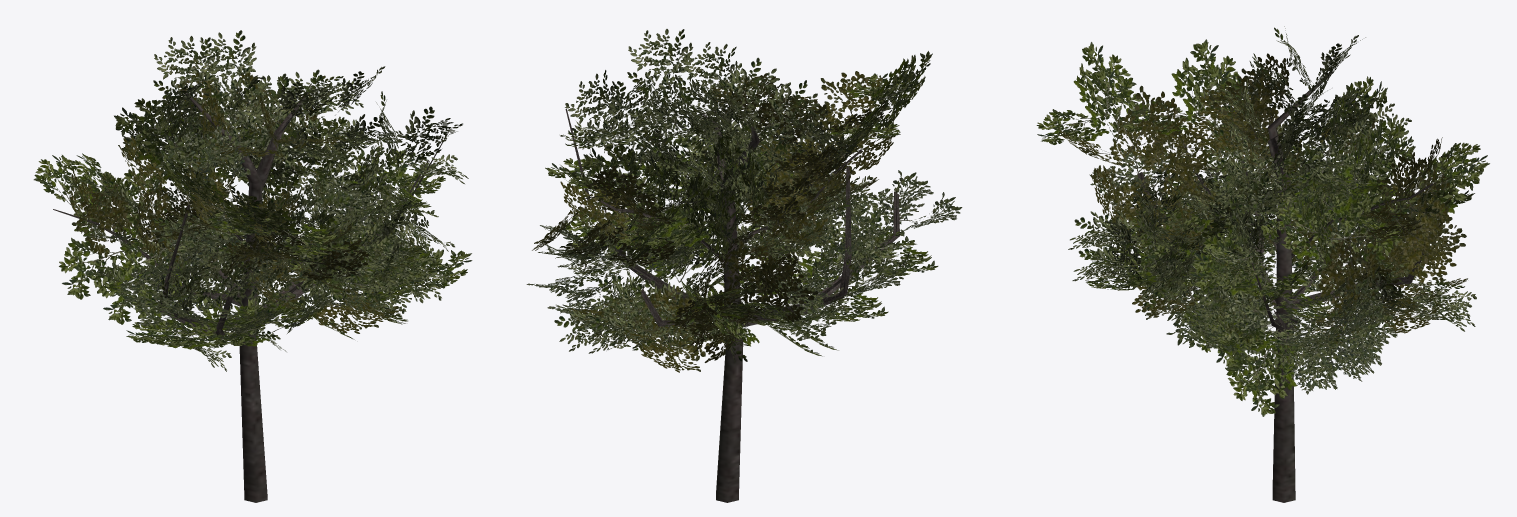
The model's file is listva2.obj.
3 views of the same model, side by side, from view 1: azimuth 30°, elevation 25°; view 2: azimuth 150°, elevation 25°; view 3: azimuth 270°, elevation 25° (orthographic).
Parts seen in each view (by area): view 1: Listvennie_green2; view 2: Listvennie_green2; view 3: Listvennie_green2.
Part boxes in pixels (left/top/right/bottom): Listvennie_green2: left=33, top=30, right=472, bottom=502; Listvennie_green2: left=526, top=29, right=962, bottom=502; Listvennie_green2: left=1036, top=26, right=1489, bottom=502.
Size of the model in its own units: 618 by 706 by 685.
